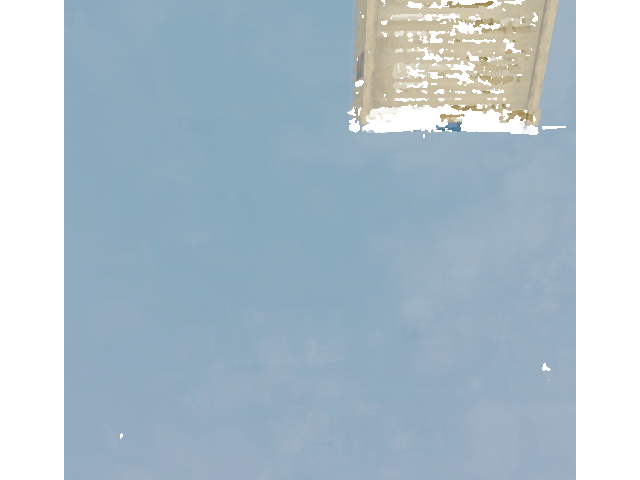container3: (348, 0, 562, 131)
